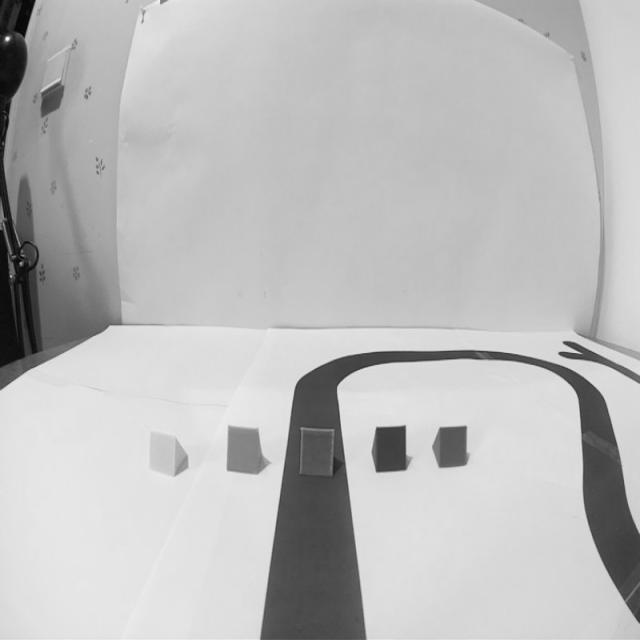lineStraight: (257, 473, 372, 640)
triangle: (296, 426, 336, 480), (225, 424, 264, 476), (147, 431, 188, 479), (370, 422, 408, 472), (430, 422, 469, 470)
